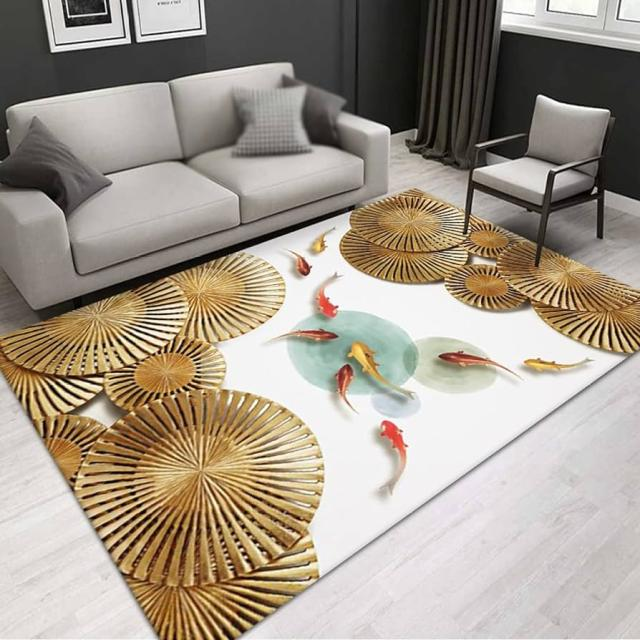natural chair: (462, 91, 604, 267)
natural sofa: (4, 56, 378, 302)
